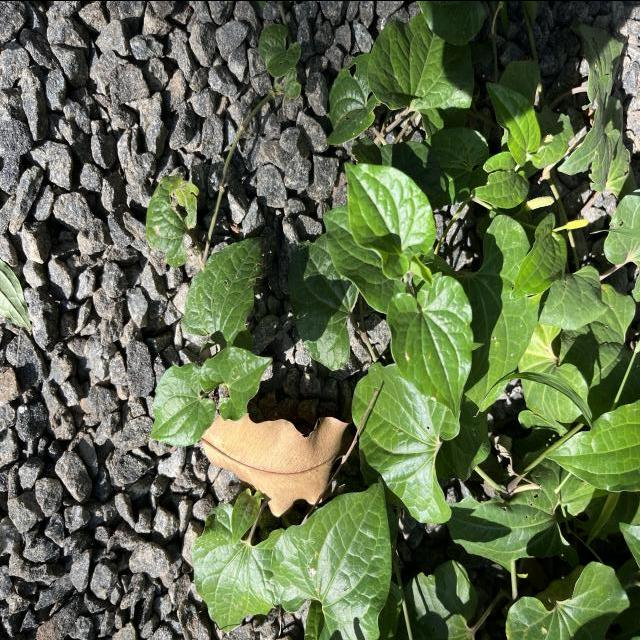Piper longum: (268, 471, 394, 640), (199, 342, 275, 422), (150, 360, 218, 448)
